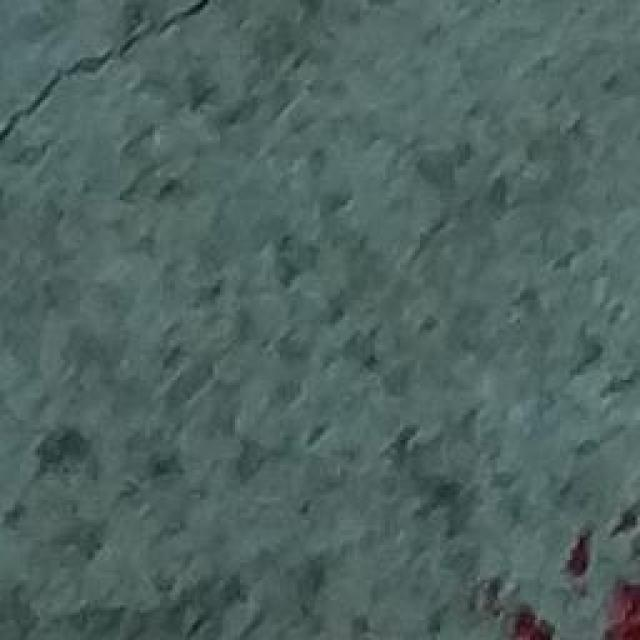Diagonal: (0, 0, 230, 120)
